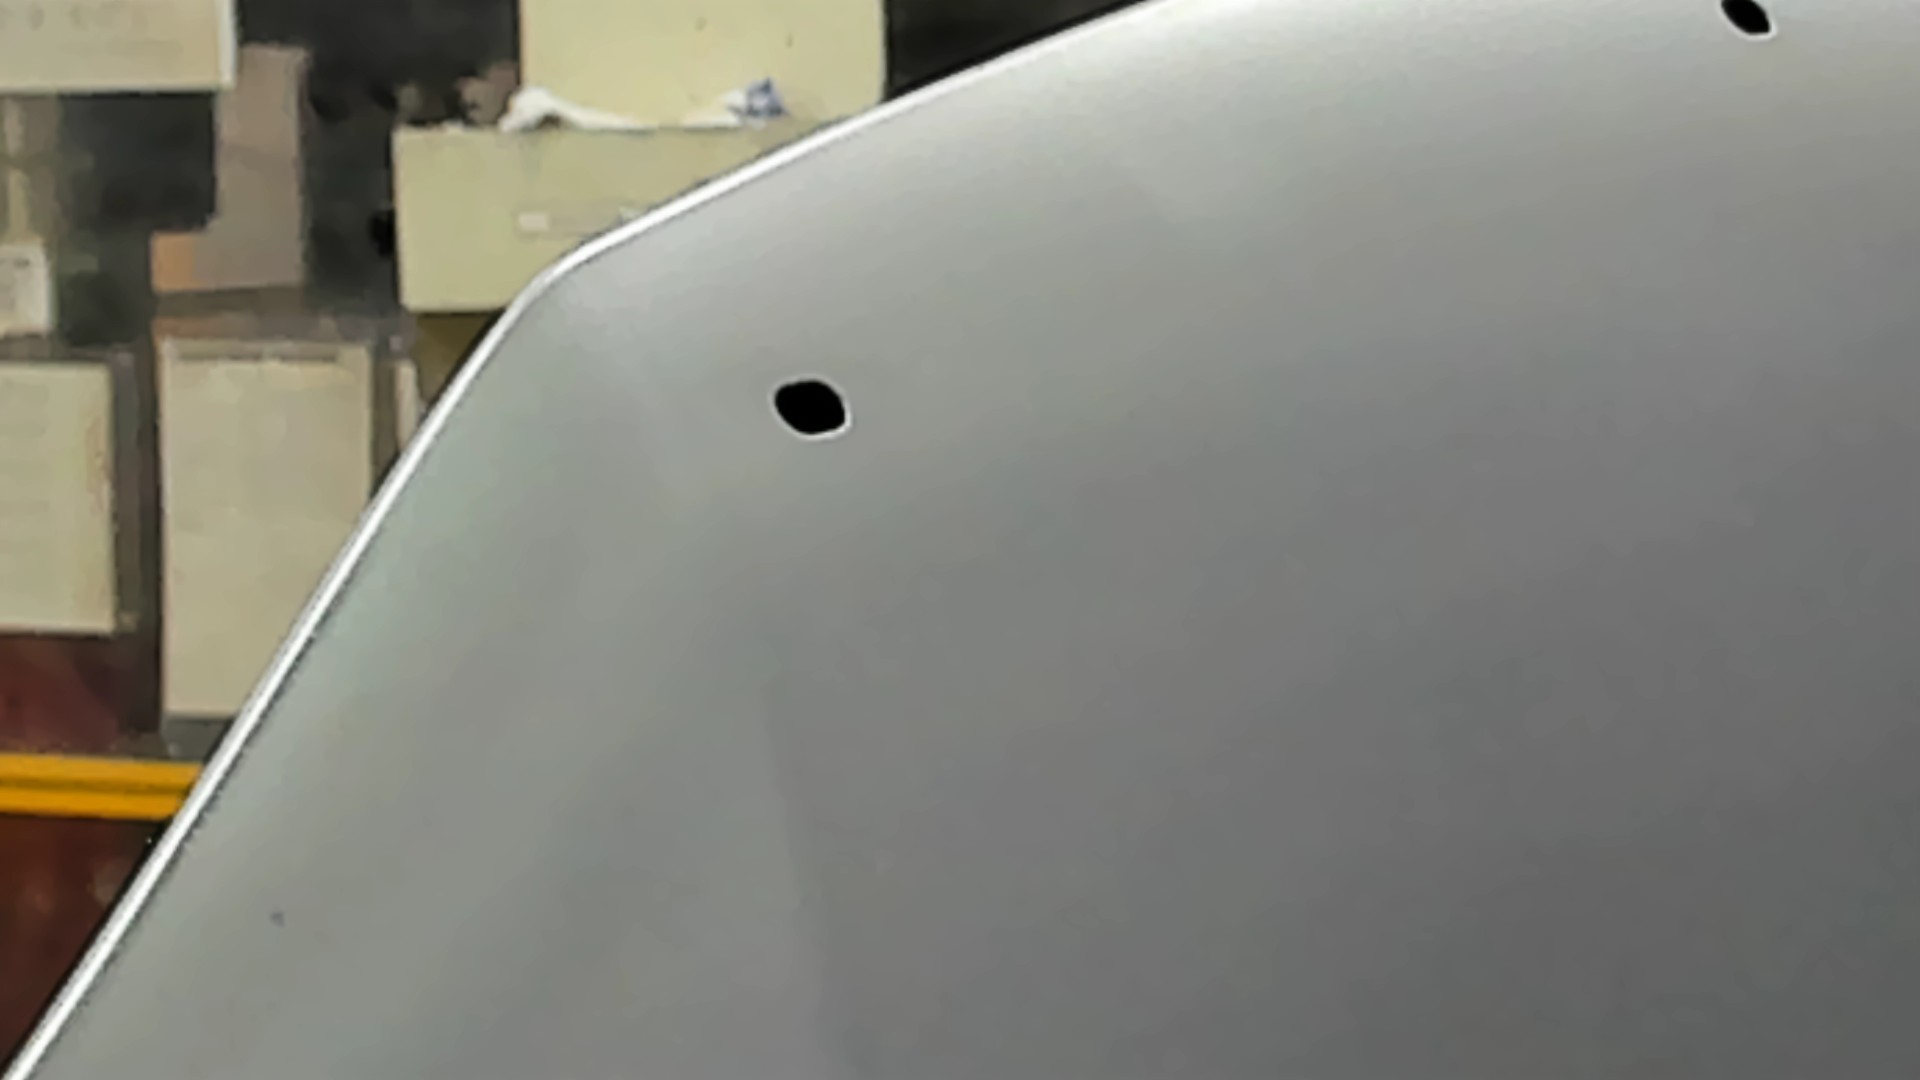amorfo: (764, 376, 865, 444), (1716, 1, 1779, 46)
capo: (922, 162, 1920, 1080)
